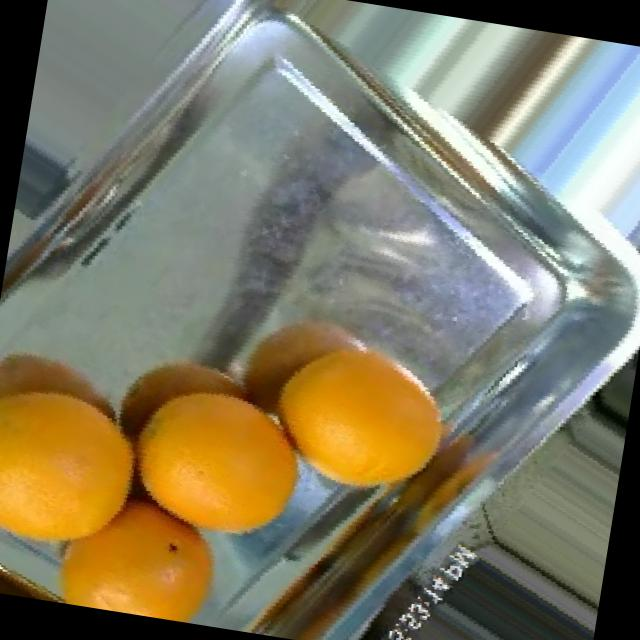Fruit: (225, 304, 482, 530)
